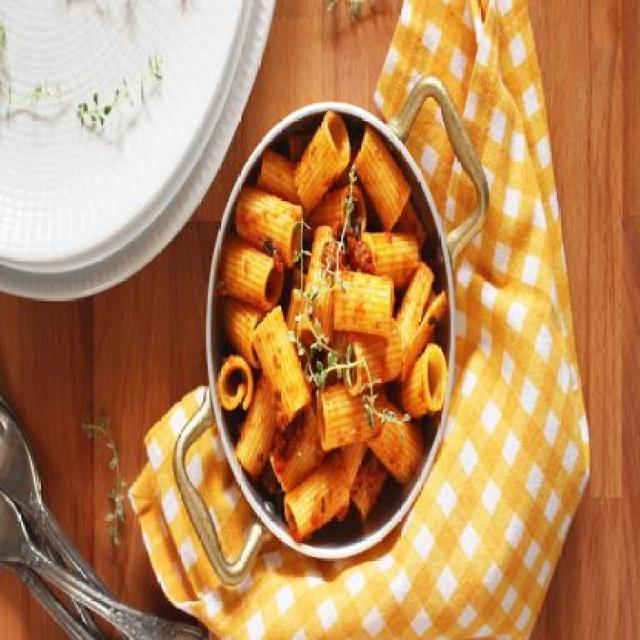Pasta al ragu: (206, 107, 458, 531)
